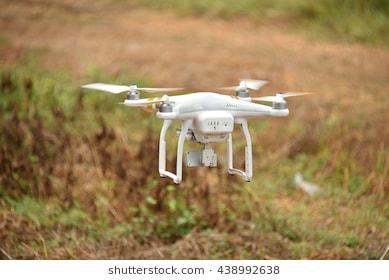drone: (78, 76, 315, 185)
